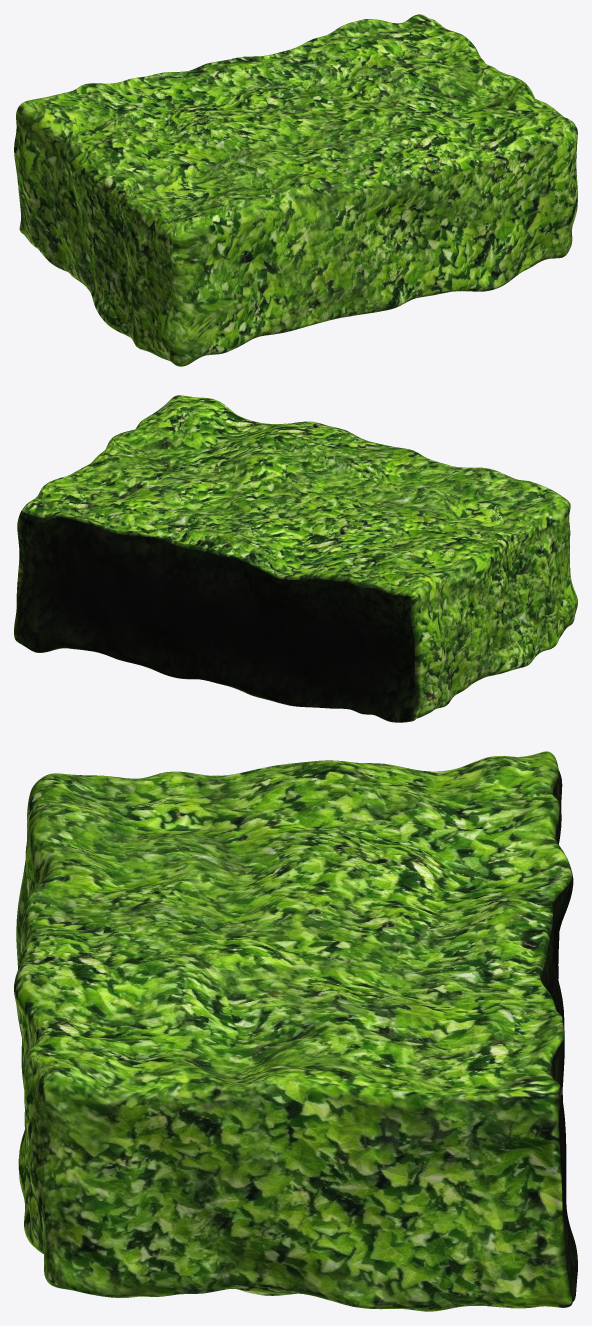
File: hang_rao_cay.glb
3 views of the same model, one above another, from view 1: azimuth 30°, elevation 25°; view 2: azimuth 150°, elevation 25°; view 3: azimuth 270°, elevation 25° (orthographic). The views are drawn at different scales.
Parts seen in each view (by area): view 1: 10449_Rectangular_Box_Hedge_v1_SG; view 2: 10449_Rectangular_Box_Hedge_v1_SG; view 3: 10449_Rectangular_Box_Hedge_v1_SG.
Part boxes in pixels (x1=…): 10449_Rectangular_Box_Hedge_v1_SG: x1=14, y1=14, x2=577, y2=366; 10449_Rectangular_Box_Hedge_v1_SG: x1=14, y1=395, x2=577, y2=722; 10449_Rectangular_Box_Hedge_v1_SG: x1=14, y1=751, x2=577, y2=1311.
Size of the model in its own units: 231 by 80.5 by 160.
Materials: 1 (1 with a texture image).
